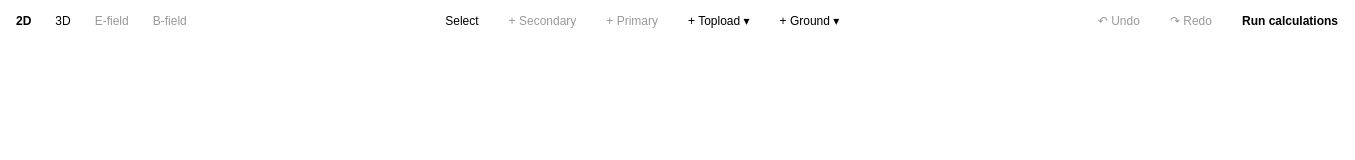
Toolbar placement dropdown › opens the geometry menu from the button and arms the chosen shape
Step 1. Click the button with test id "tool-topload" → point(719, 21), box [676,8,762,34]
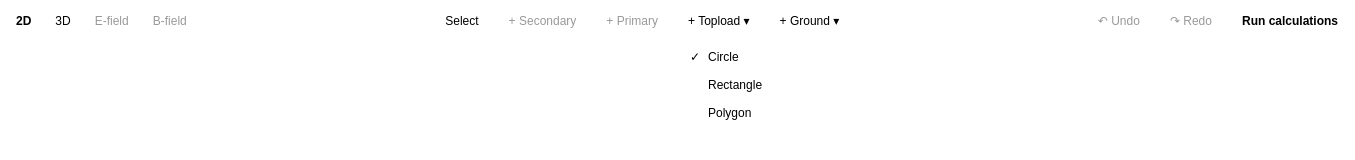
Now the menu with test id "shape-menu-topload" is shown, box [676,38,826,132]
Step 2. Click the menu item with test id "shape-topload-rectangle" → point(751, 85), box [682,72,820,98]
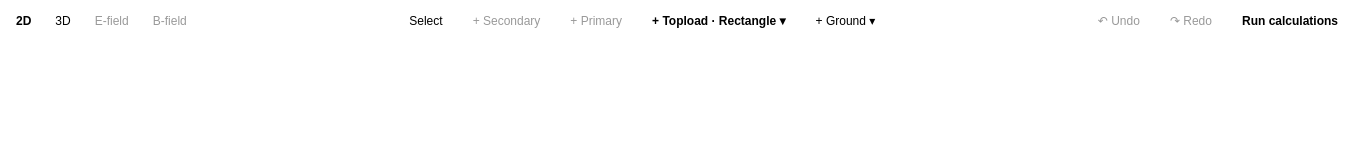
Now the menu with test id "shape-menu-topload" is gone
